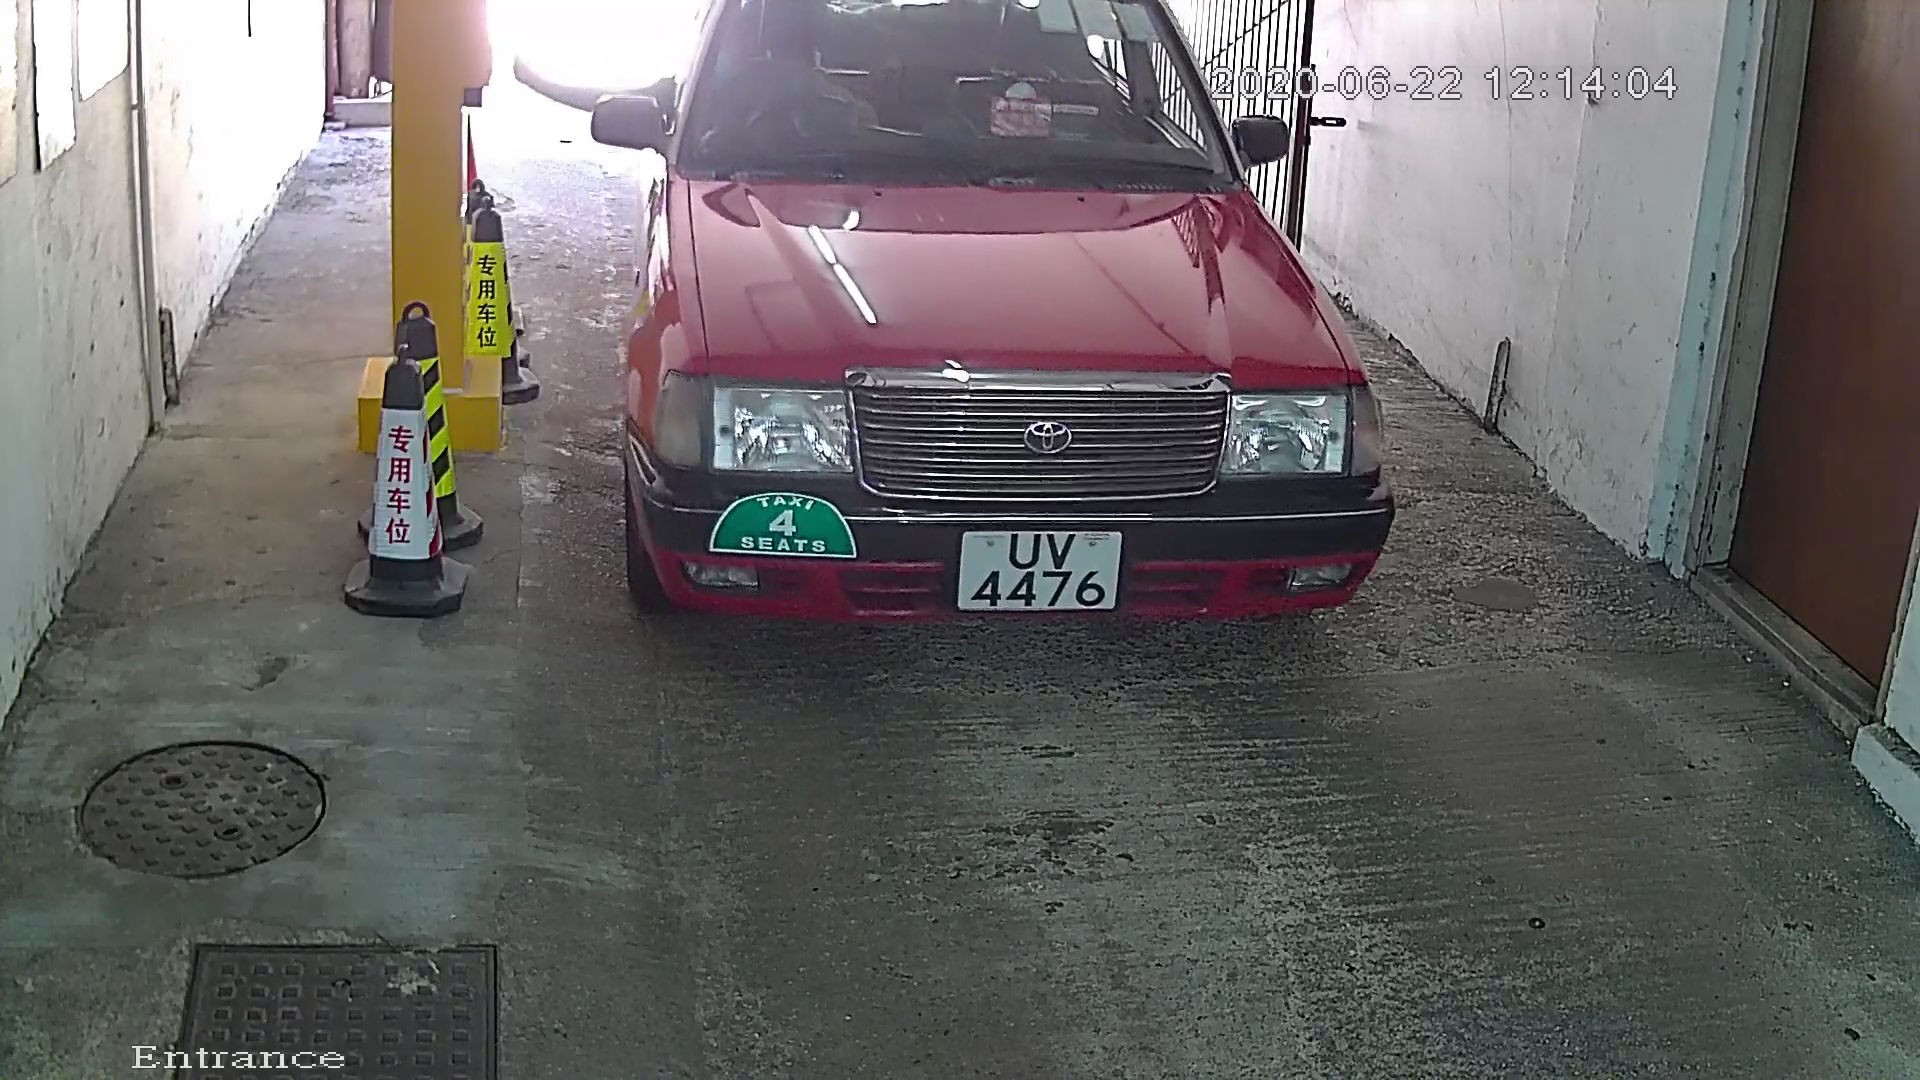taxi: (584, 3, 1464, 711)
taxi_mark: (692, 477, 878, 589)
